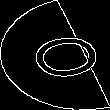O_E: (9, 26, 101, 84)
